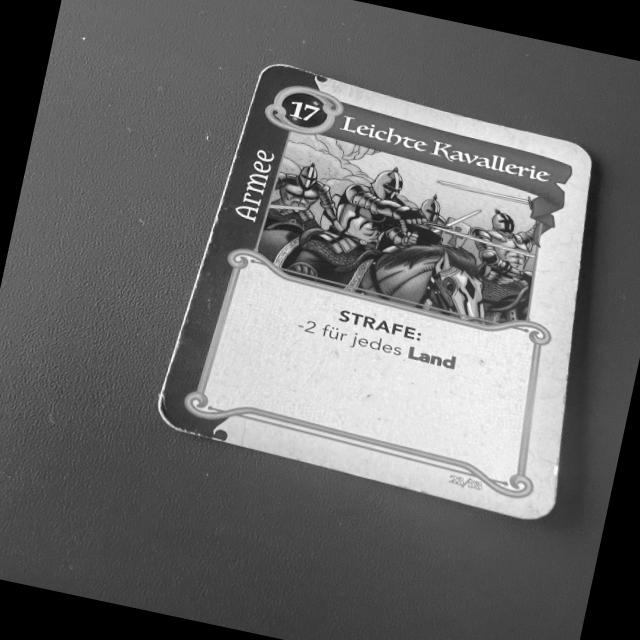Light Cavalry: (147, 59, 590, 524)
